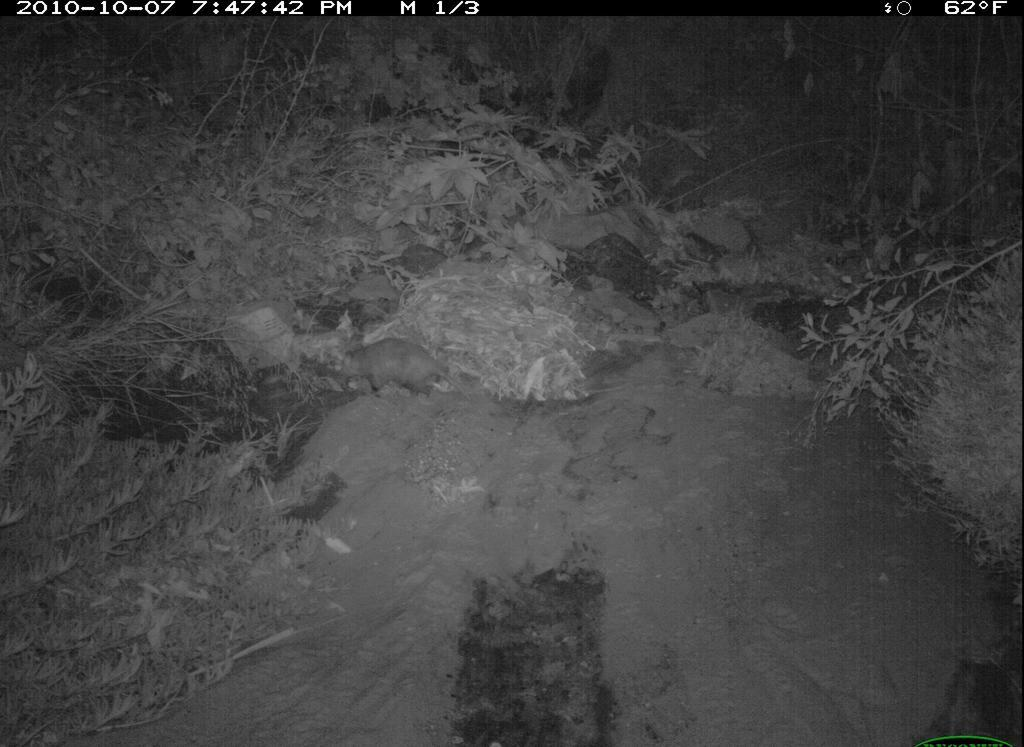opossum: (335, 321, 478, 423)
